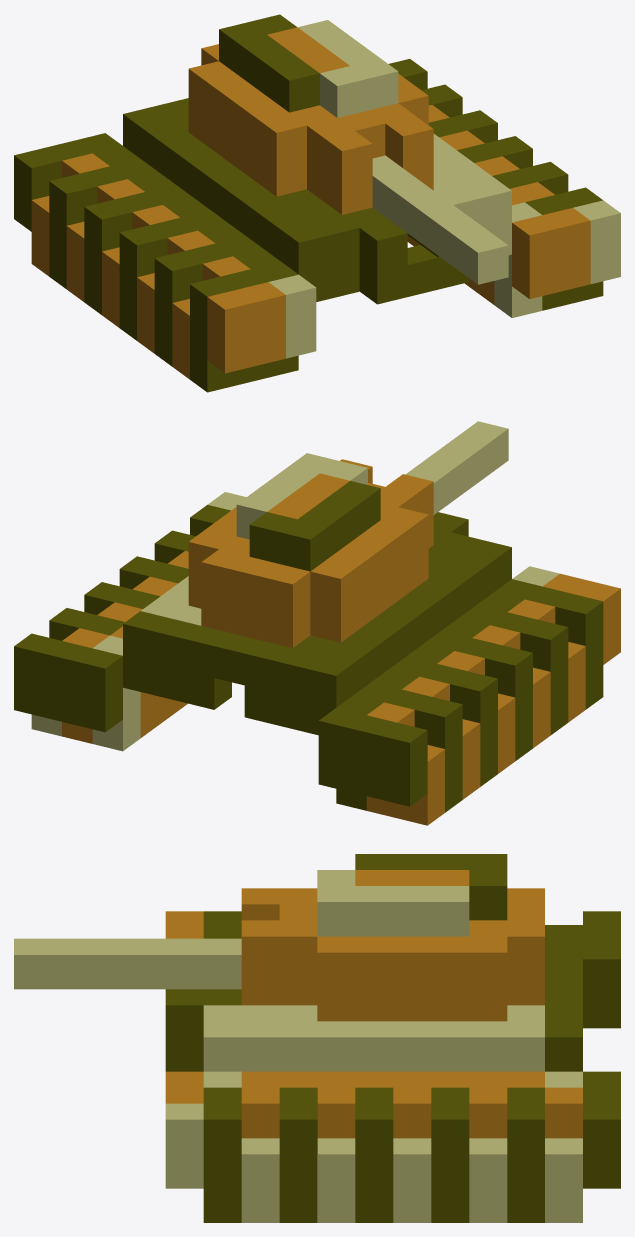
Rendered from basic_tank.glb.
3 renders of one model, top to bottom at view 1: azimuth 30°, elevation 25°; view 2: azimuth 150°, elevation 25°; view 3: azimuth 270°, elevation 25°, orthographic. The views are drawn at different scales.
Visible parts, largest first — view 1: Object_2.003; view 2: Object_2.003; view 3: Object_2.003.
Part boxes in pixels (x1,y1,x2,y2): Object_2.003: [14, 14, 620, 392]; Object_2.003: [14, 421, 620, 825]; Object_2.003: [14, 854, 620, 1222].
Bounding box in the file's own units: 13 × 7 × 16.
Materials: 1 (1 with a texture image).
